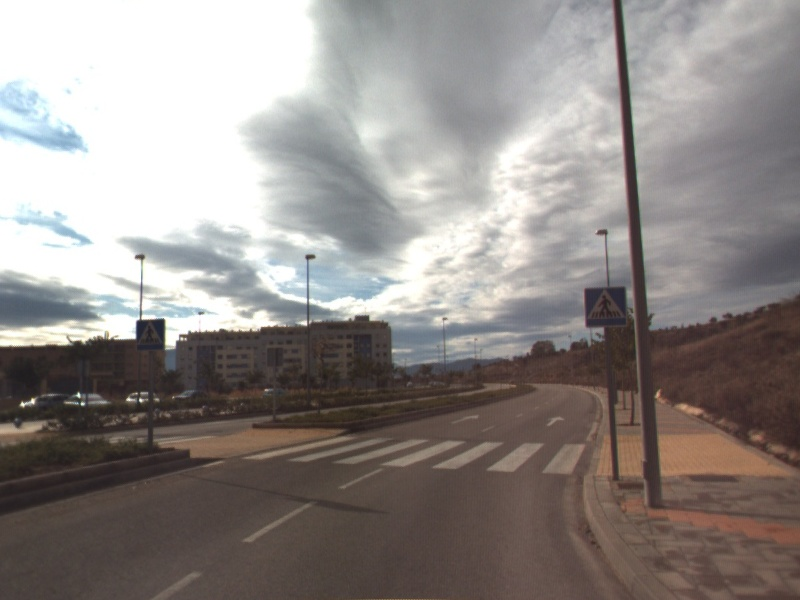STRAIGHT: (449, 412, 481, 425), (545, 414, 566, 428)
